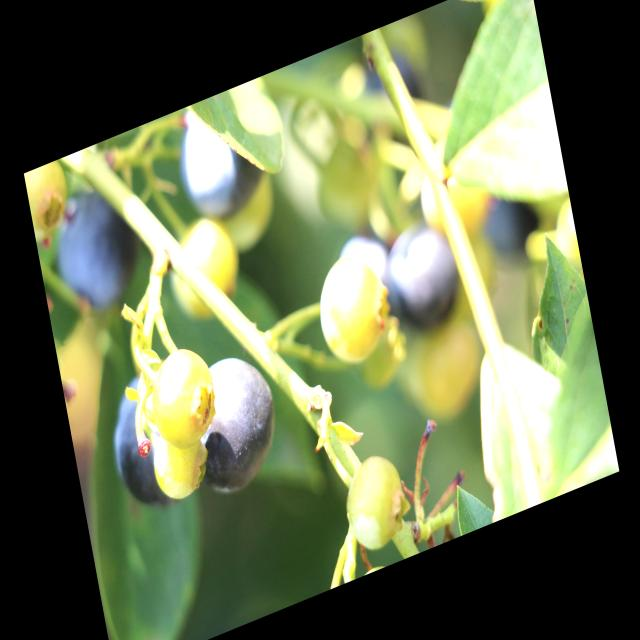blueberry: (186, 342, 284, 499), (105, 362, 189, 520), (51, 177, 140, 317), (173, 100, 265, 230), (382, 205, 464, 340), (334, 215, 402, 340), (475, 161, 543, 270)
blueberry-unripe: (312, 241, 396, 379), (334, 443, 416, 565), (142, 336, 224, 454), (146, 419, 215, 513)
